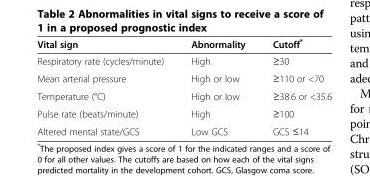table: (36, 36, 331, 136)
table column: (36, 36, 176, 136), (176, 36, 258, 136), (258, 36, 331, 136)
table column header: (36, 36, 331, 52)
table row: (36, 86, 331, 104), (36, 104, 331, 122), (36, 52, 331, 69), (36, 69, 331, 86), (36, 36, 331, 52), (36, 122, 331, 136)
